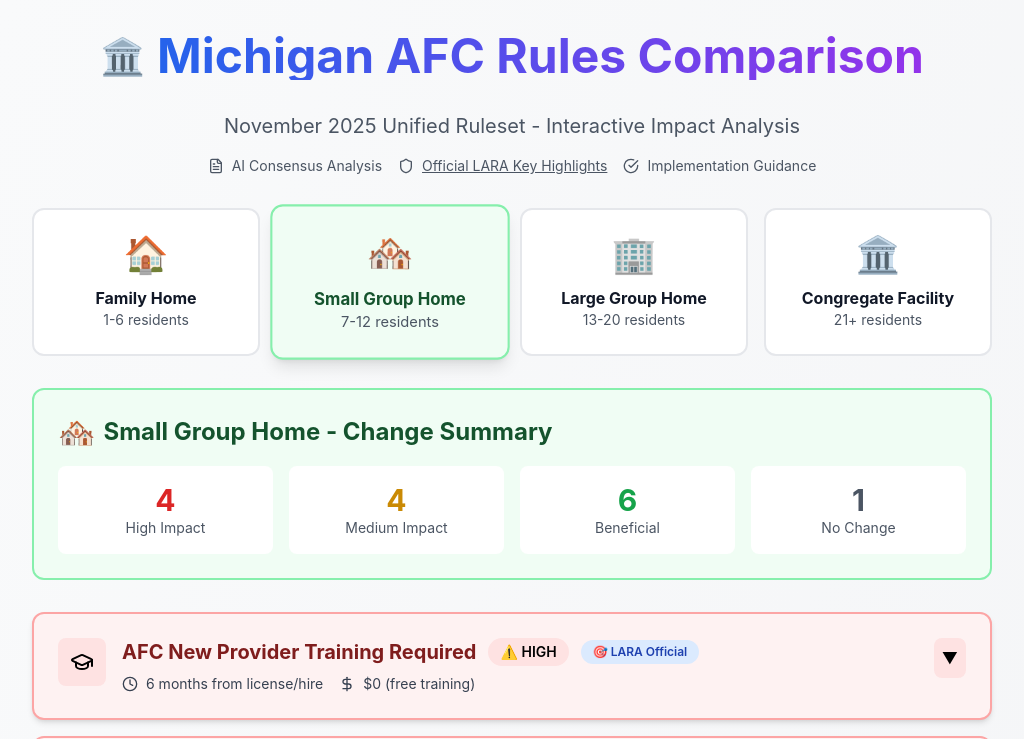
Test: AFCRulesInfographic › Facility Type Selection › switches to Congregate Facility when clicked
The width and height of the screenshot is (1024, 739).
Click the text "Congregate Facility" at (878, 298), box [790,286,966,310]
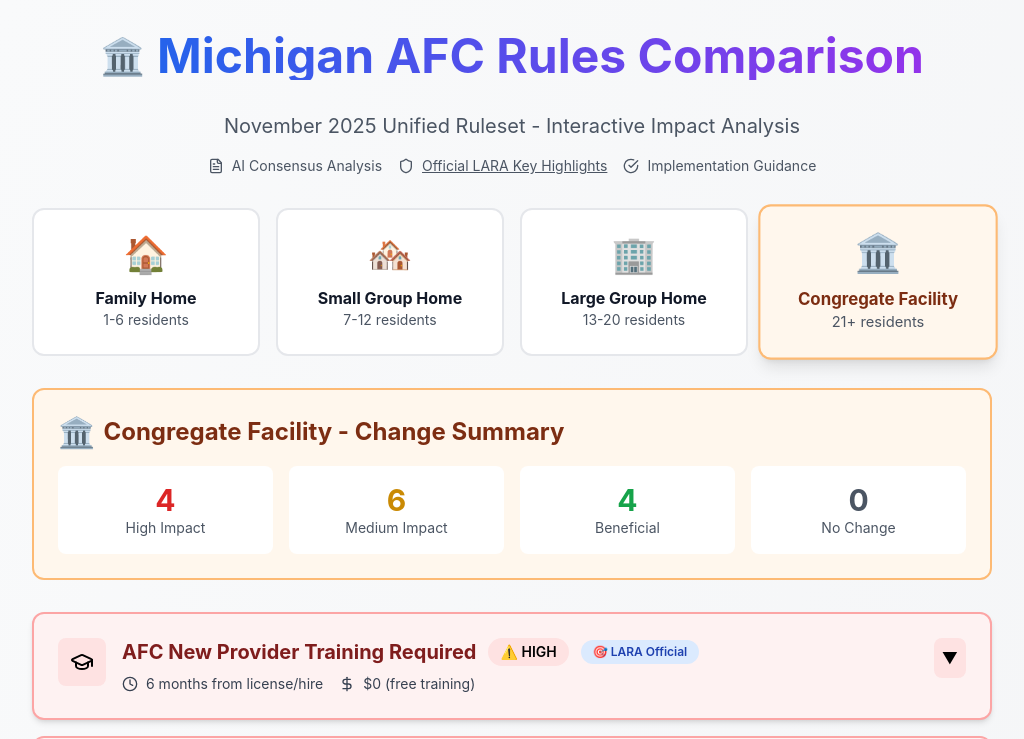
Now the heading "🏛️ Congregate Facility - Change Summary" is shown, box [58,414,564,450]
